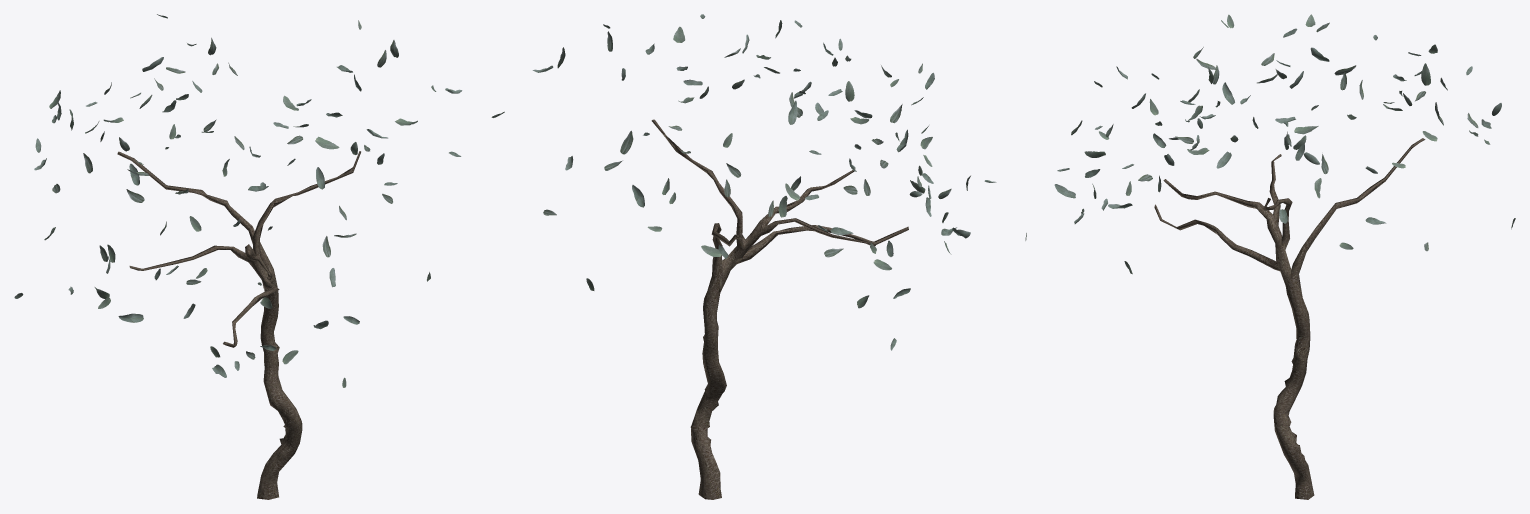
File: shrub_cistus.glb
3 views of the same model, side by side, from view 1: azimuth 30°, elevation 25°; view 2: azimuth 150°, elevation 25°; view 3: azimuth 270°, elevation 25° (orthographic). The views are drawn at different scales.
Parts seen in each view (by area): view 1: maxtree_plant_wood, maxtree_plant_leaf; view 2: maxtree_plant_wood, maxtree_plant_leaf; view 3: maxtree_plant_wood, maxtree_plant_leaf.
Part boxes in pixels (bbox=[...]): maxtree_plant_wood: bbox=[117, 151, 360, 499]; maxtree_plant_leaf: bbox=[14, 14, 462, 387]; maxtree_plant_wood: bbox=[651, 119, 908, 499]; maxtree_plant_leaf: bbox=[491, 14, 996, 350]; maxtree_plant_wood: bbox=[1154, 138, 1425, 499]; maxtree_plant_leaf: bbox=[1025, 14, 1515, 274].
Bounding box in the file's own units: 1.25 × 1.31 × 1.33.
2 materials, 2 textured.
